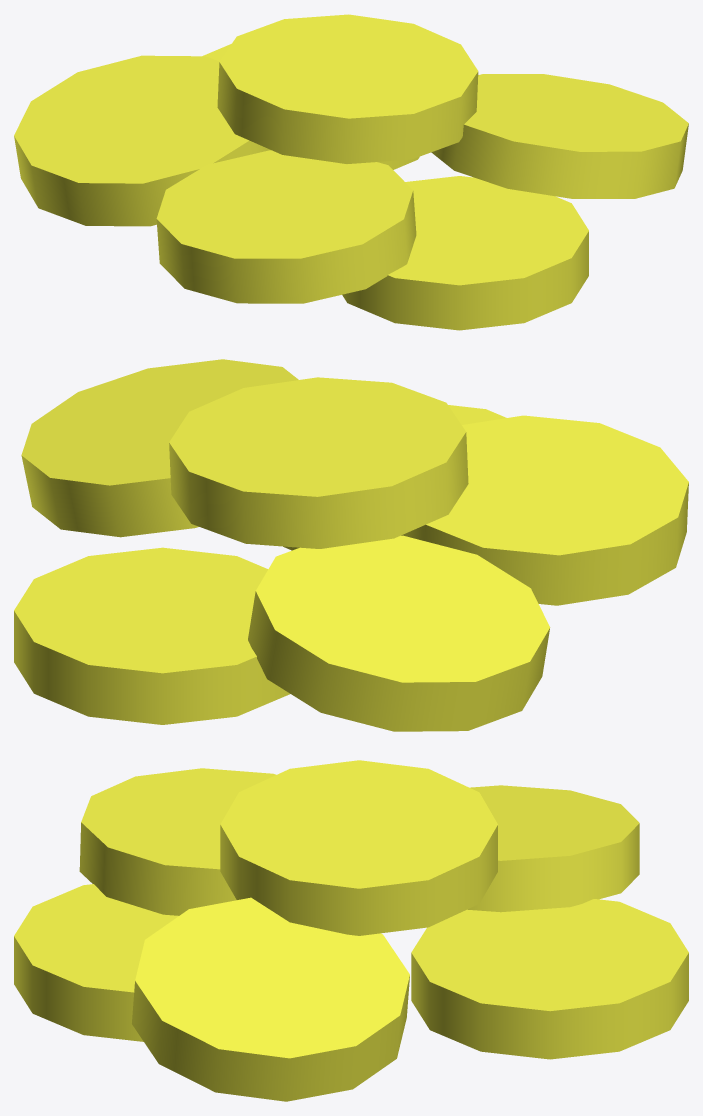
Rendered from Coins 8.glb.
3 views of the same model, one above another, from view 1: azimuth 30°, elevation 25°; view 2: azimuth 150°, elevation 25°; view 3: azimuth 270°, elevation 25° (orthographic). The views are drawn at different scales.
Visible parts, largest first — view 1: coins_8; view 2: coins_8; view 3: coins_8.
Boxes of the visible parts, x1=… form: coins_8: x1=14, y1=14, x2=688, y2=330; coins_8: x1=14, y1=359, x2=688, y2=731; coins_8: x1=14, y1=760, x2=688, y2=1101.
Size of the model in its own units: 0.4749 by 0.1256 by 0.4862.
